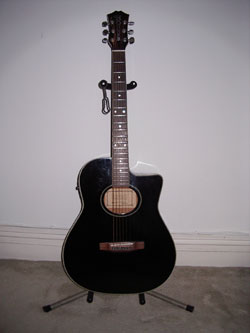guitar: (59, 10, 177, 295)
